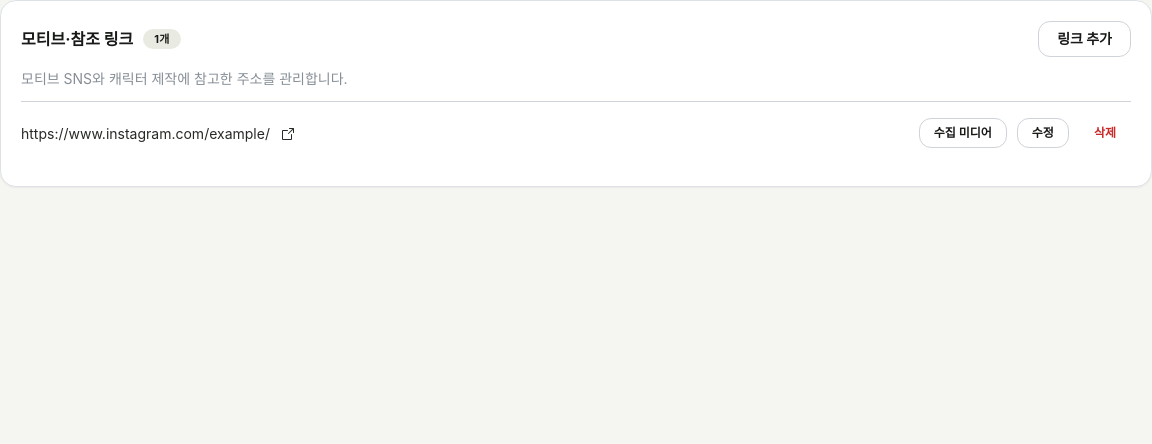
character reference link editor › preserves an edited URL after a server error and rejects unsafe URL schemes
Click the button "수정": (1043, 133) [1017, 118, 1069, 148]
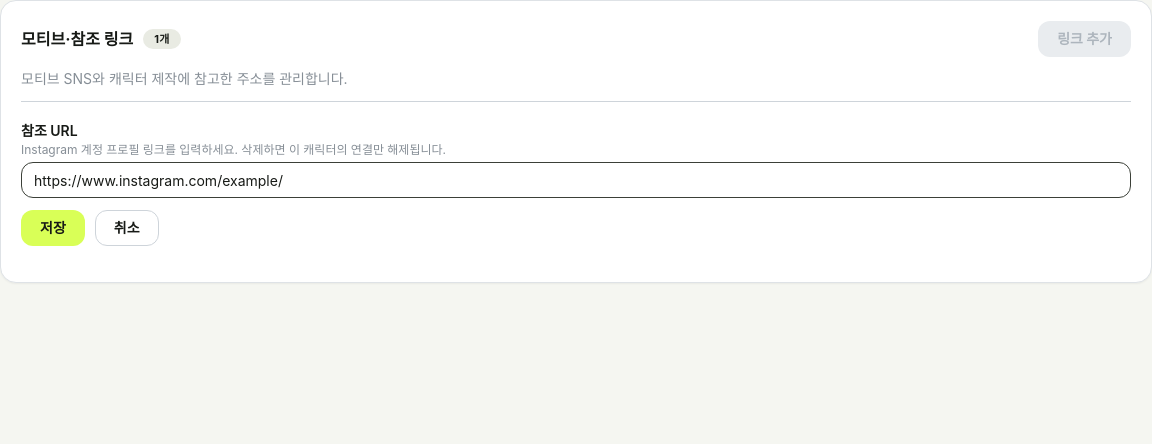
Replace the text in the field labelled "참조 URL" with "https://example.org/keep": (576, 180) [21, 162, 1131, 198]
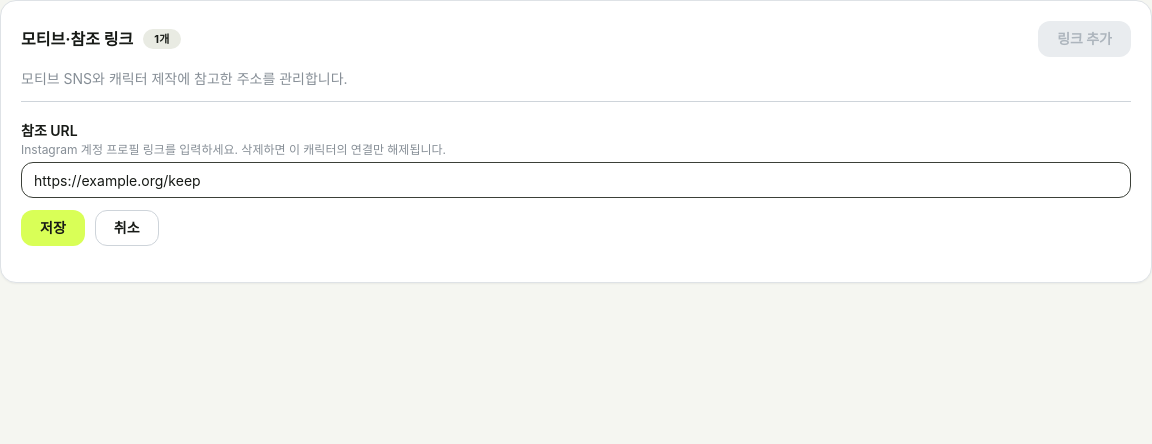
Click the button "저장": (53, 228) [21, 210, 85, 246]
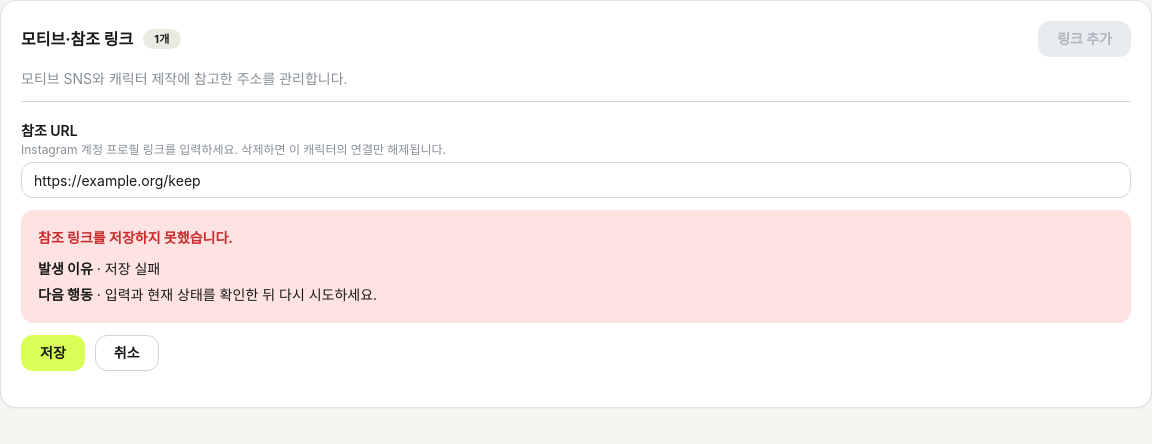
Result: the text "저장 실패" is shown at [105, 260, 160, 277]
Replace the text in the field labelled "참조 URL" with "javascript:alert(1)": (576, 180) [21, 162, 1131, 198]
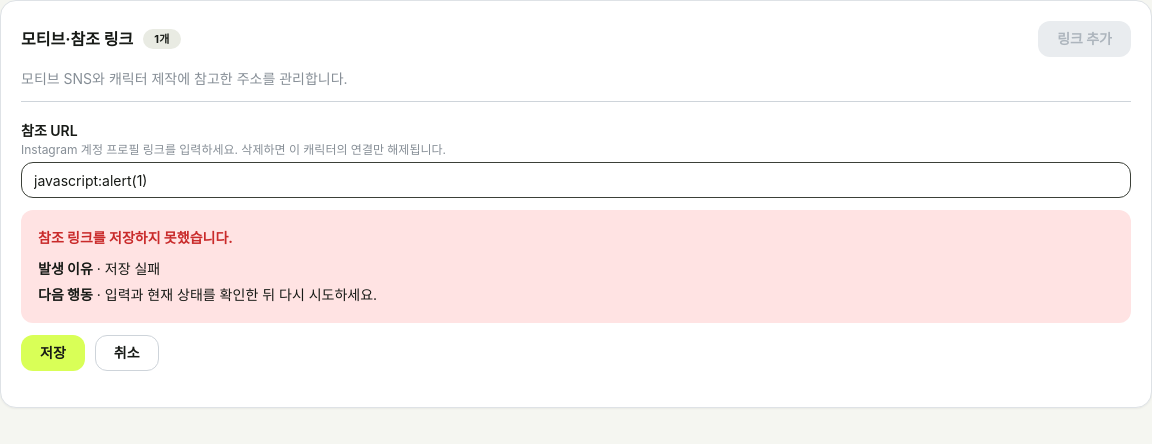
Click the button "저장": (53, 353) [21, 335, 85, 371]
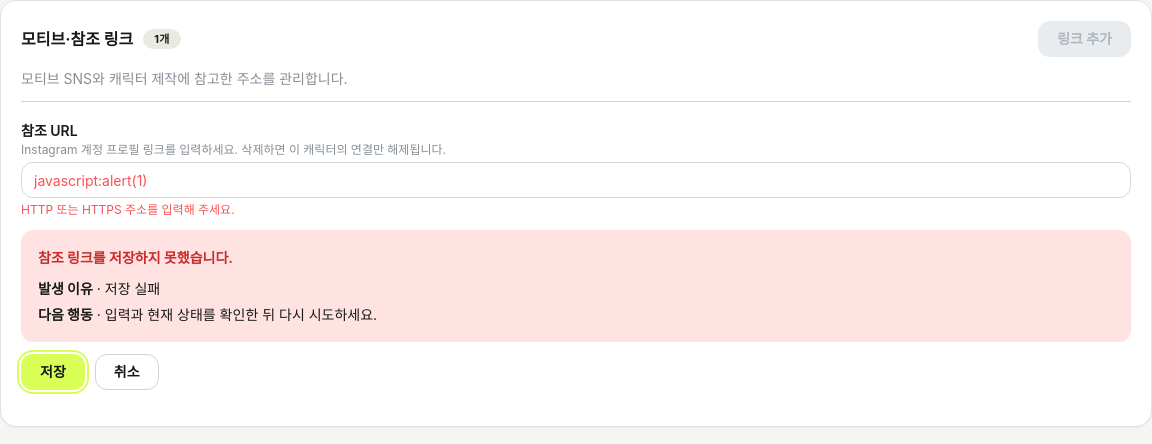
Result: the text "HTTP 또는 HTTPS 주소를 입력해 주세요." is shown at [21, 202, 235, 218]
